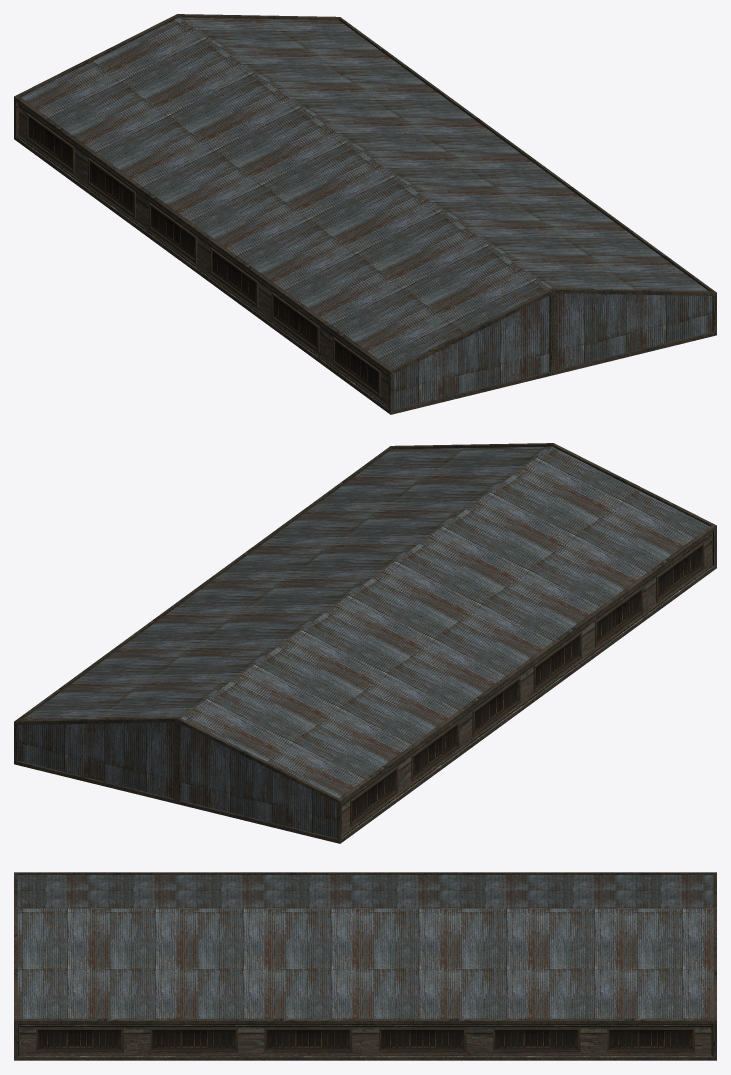
File: roof_mh_4_a_4.glb
The picture shows the model from 3 angles, top to bottom: view 1: azimuth 30°, elevation 25°; view 2: azimuth 150°, elevation 25°; view 3: azimuth 270°, elevation 25°; orthographic projection. The views are drawn at different scales.
Parts seen in each view (by area): view 1: roof_mh_4_a_4; view 2: roof_mh_4_a_4; view 3: roof_mh_4_a_4.
Boxes of the visible parts, x1,y1,x2,y2 form: roof_mh_4_a_4: (14,14,716,414); roof_mh_4_a_4: (14,443,716,843); roof_mh_4_a_4: (14,872,716,1060).
Bounding box in the file's own units: 8 × 2 × 16.
6 materials, 6 textured.
